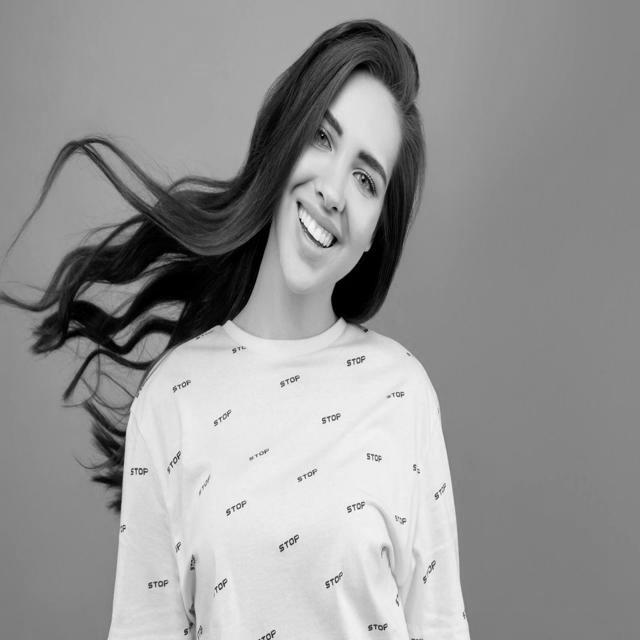Happiness: (272, 69, 406, 304)
